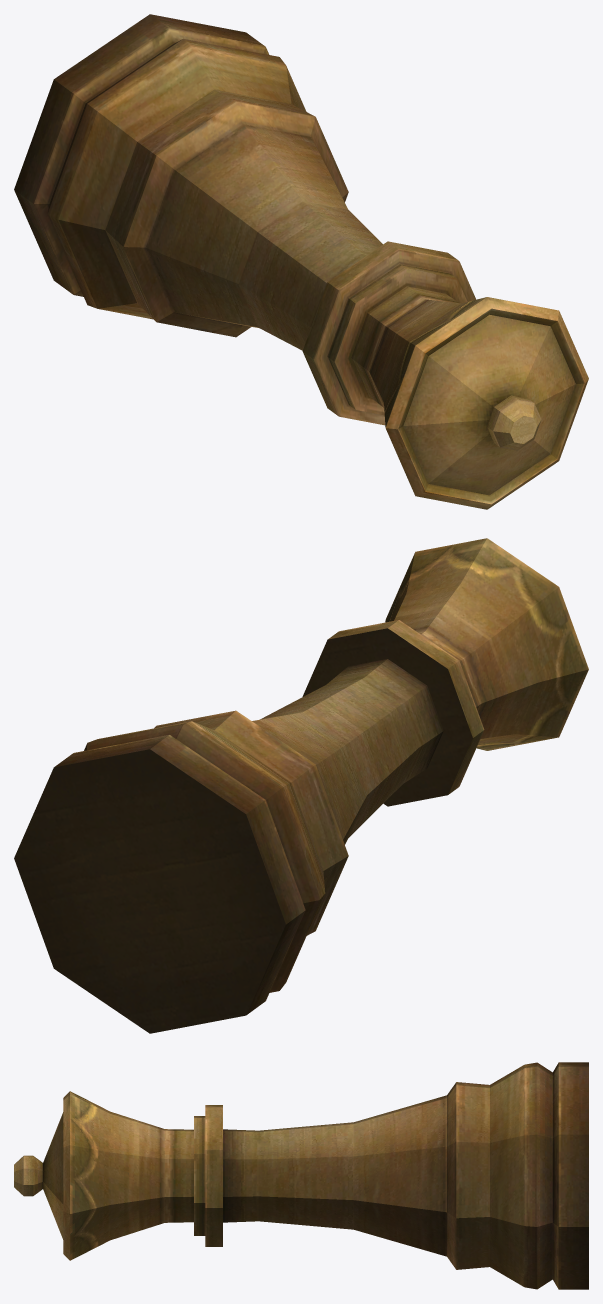
File: juqing_fuben_544_qizi_05a.obj
3 views of the same model, one above another, from view 1: azimuth 30°, elevation 25°; view 2: azimuth 150°, elevation 25°; view 3: azimuth 270°, elevation 25° (orthographic). The views are drawn at different scales.
Visible parts, largest first — view 1: juqing_fuben_544_qizi_05a; view 2: juqing_fuben_544_qizi_05a; view 3: juqing_fuben_544_qizi_05a.
Part boxes in pixels (x1,y1,x2,y2): juqing_fuben_544_qizi_05a: (14,14,588,509); juqing_fuben_544_qizi_05a: (14,538,588,1033); juqing_fuben_544_qizi_05a: (14,1062,588,1289).
Size of the model in its own units: 120 by 120 by 286.
Materials: 2 (2 with a texture image).
